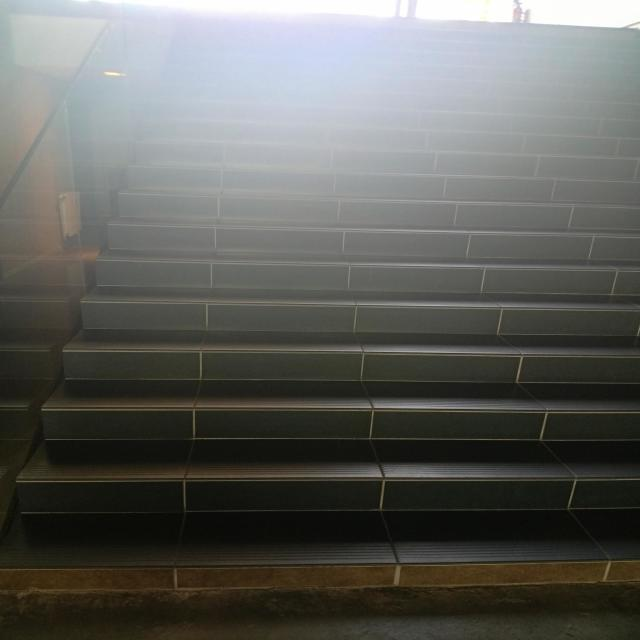Stairs: (0, 241, 640, 636)
